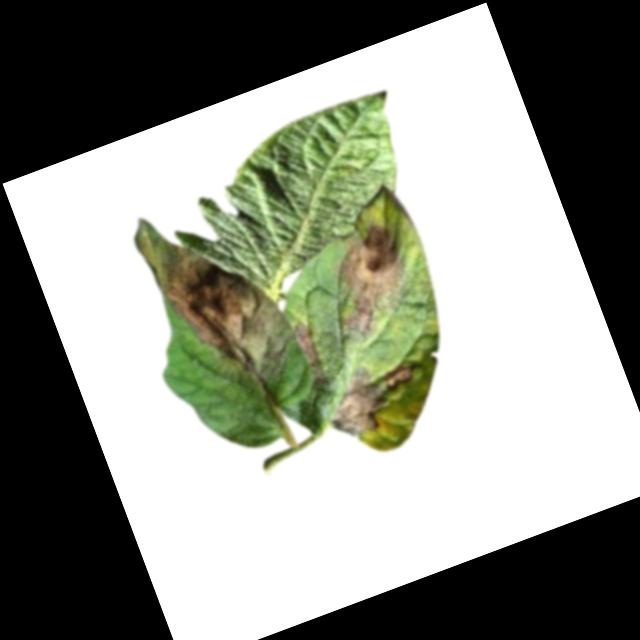Late_blight: (127, 190, 307, 420), (313, 215, 427, 347), (314, 345, 437, 448), (289, 316, 323, 370)
healthy: (149, 85, 435, 311)
